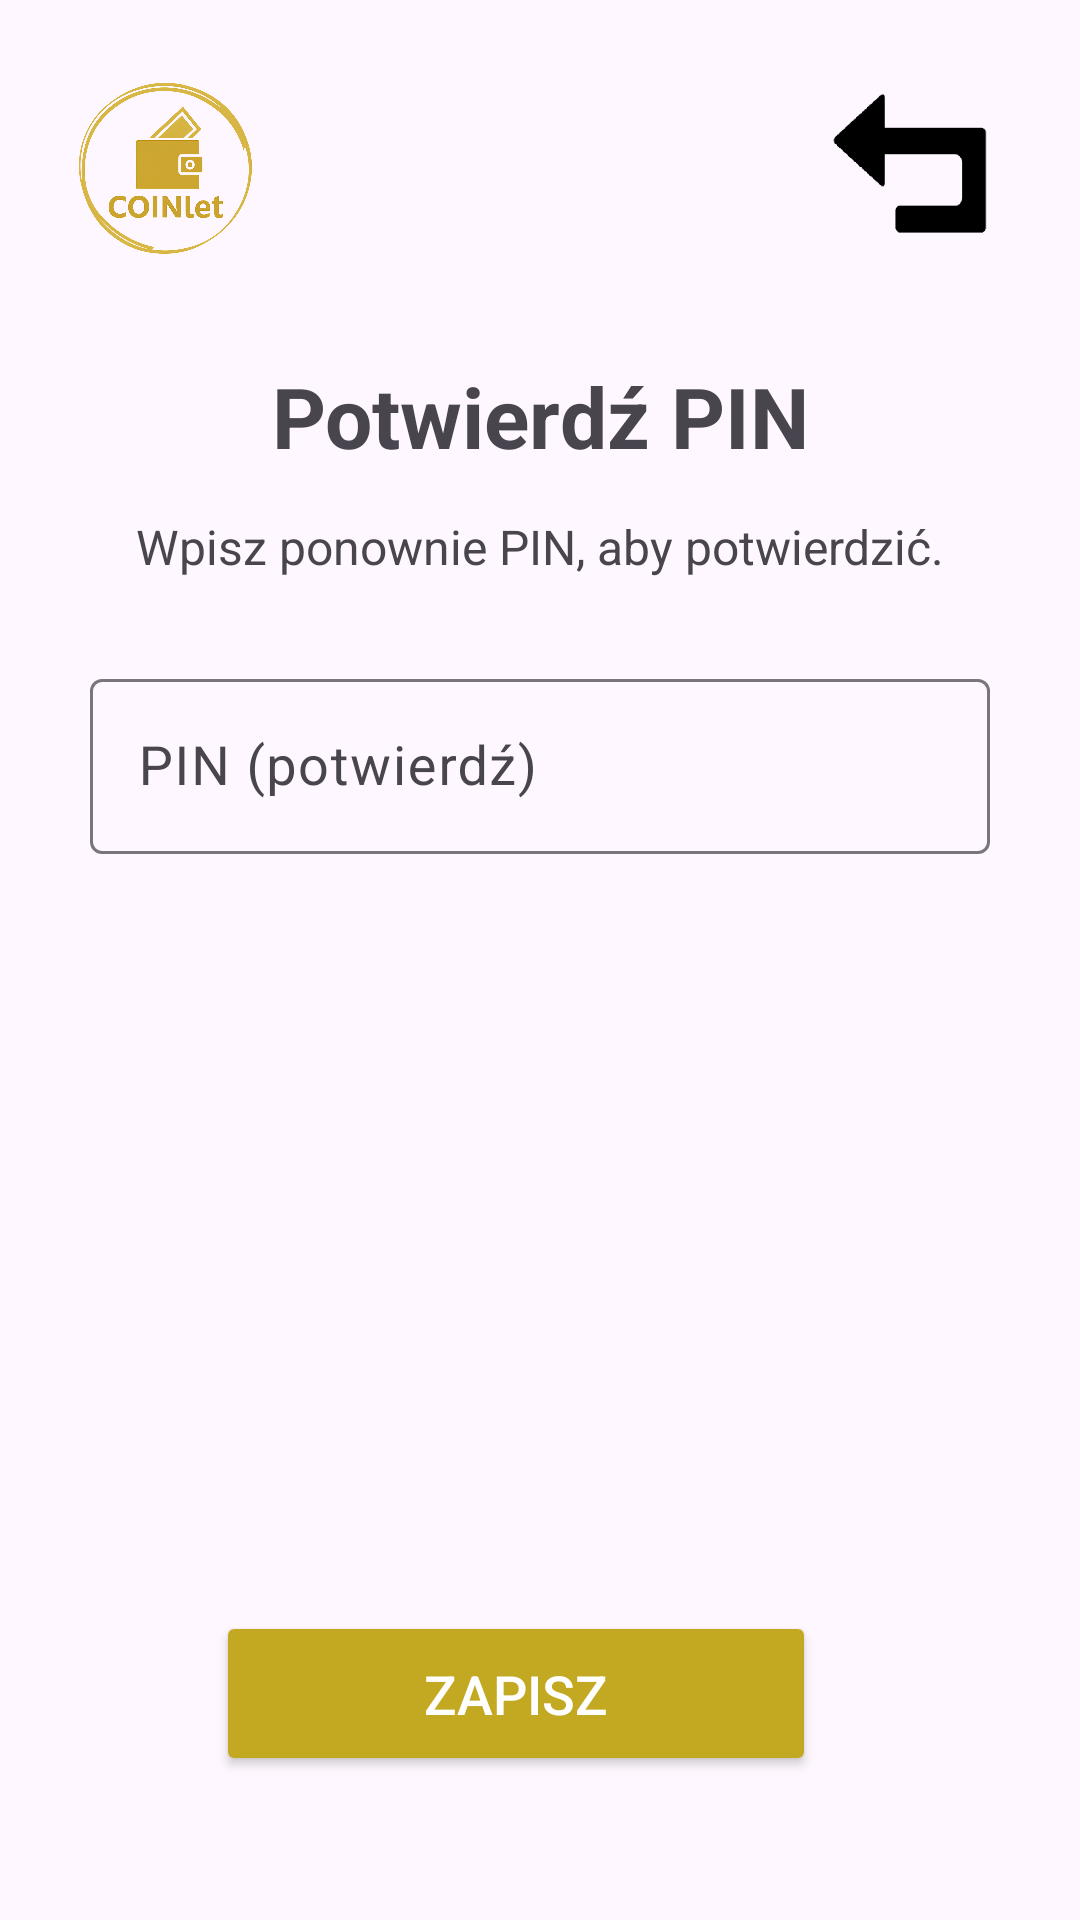

Where to tap for icons on this 1080w x 1920h app screen, as (x,y):
back: (910,163)
